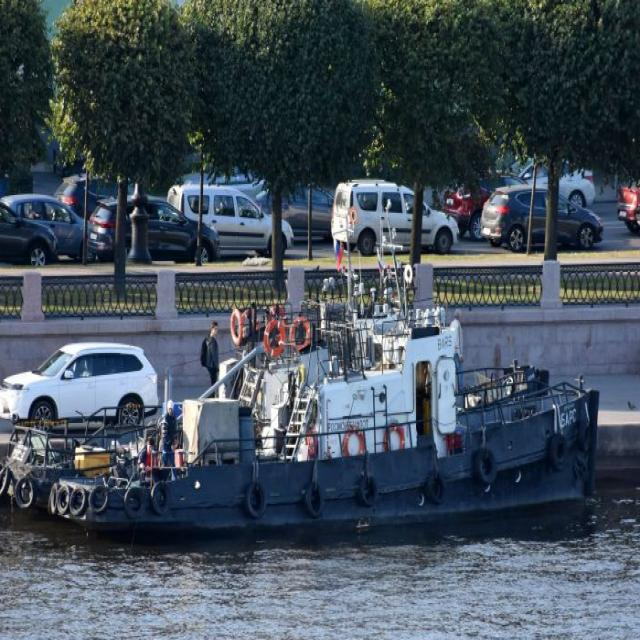tugboat: (45, 240, 603, 565)
